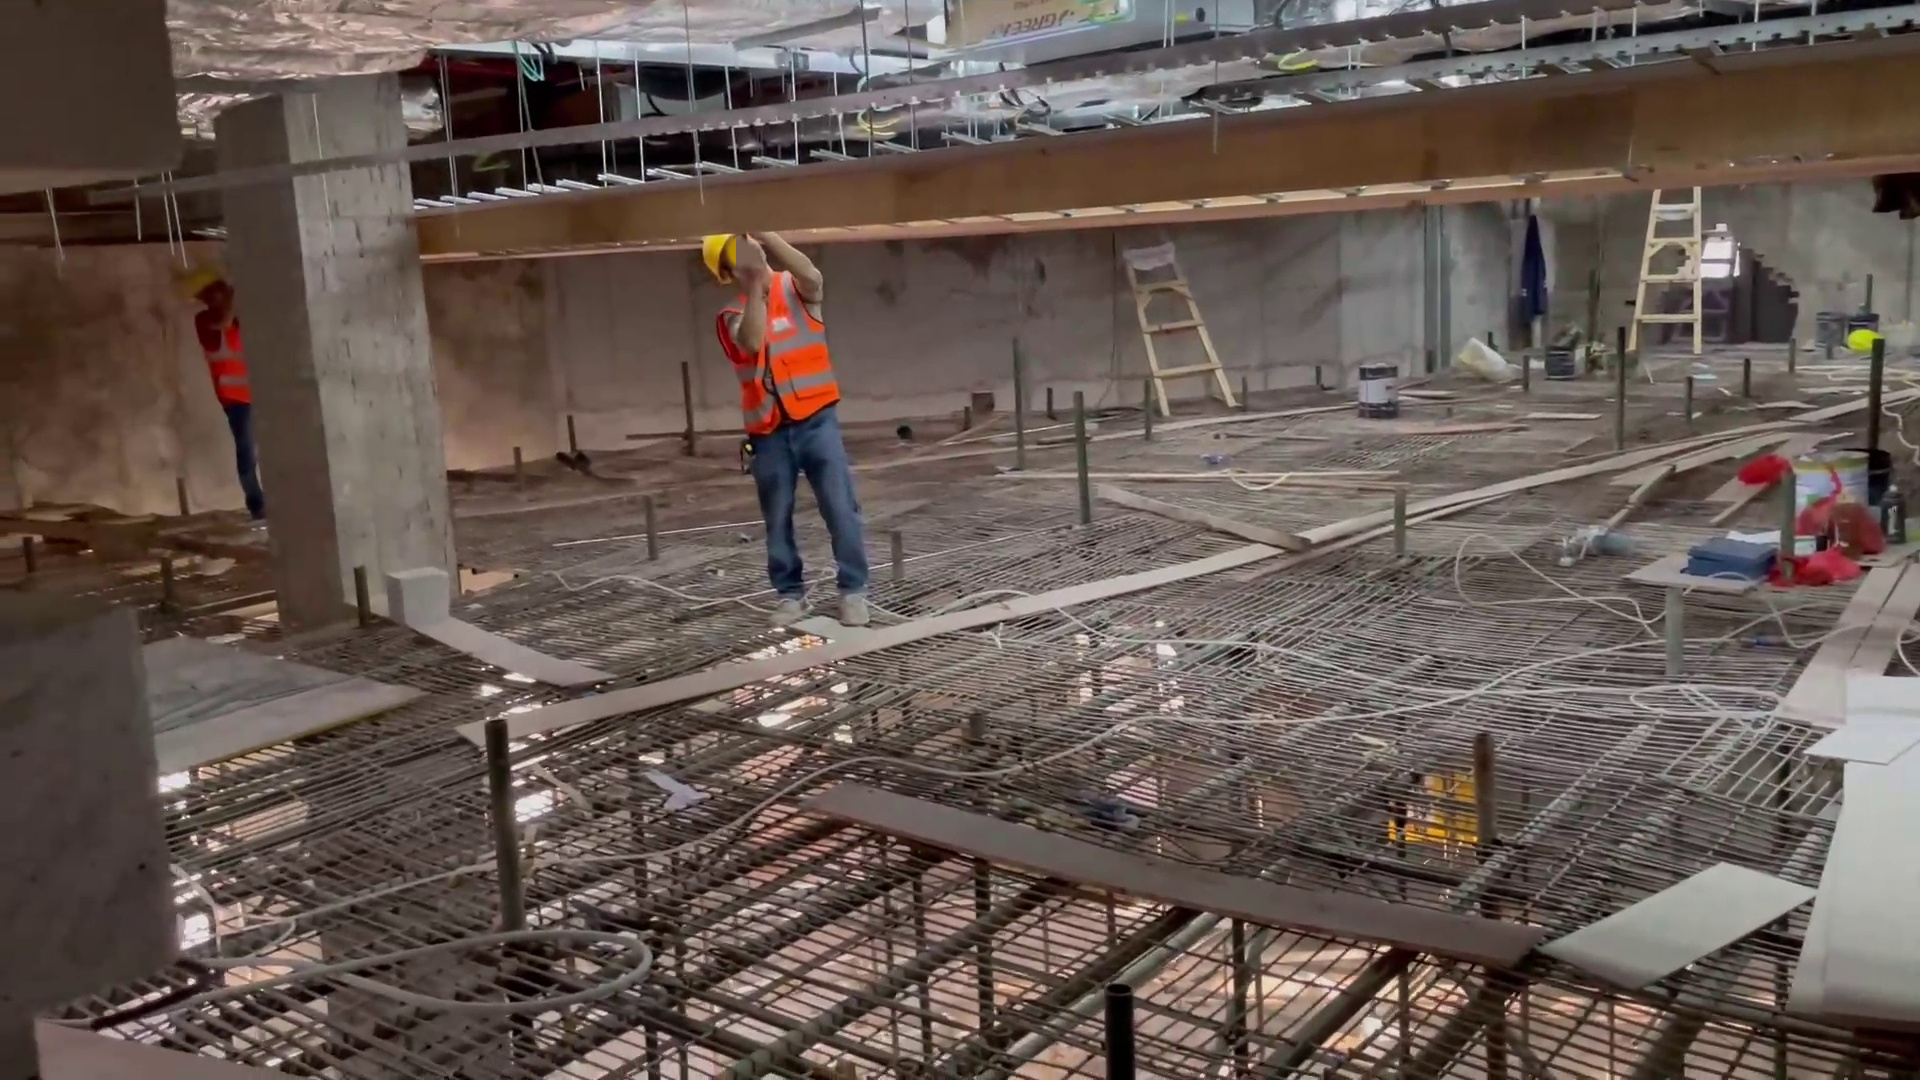helmet: (698, 227, 731, 285), (1845, 323, 1882, 353), (187, 269, 228, 293)
person: (675, 228, 851, 623), (183, 269, 286, 539)
vest: (720, 280, 841, 426), (192, 311, 253, 410)
